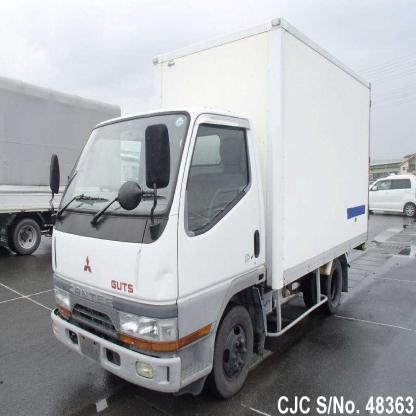truck: (50, 19, 369, 396)
